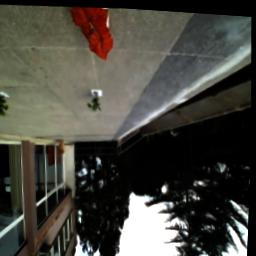herb: (89, 93, 104, 112), (1, 96, 10, 120)
wild: (69, 5, 117, 62)
